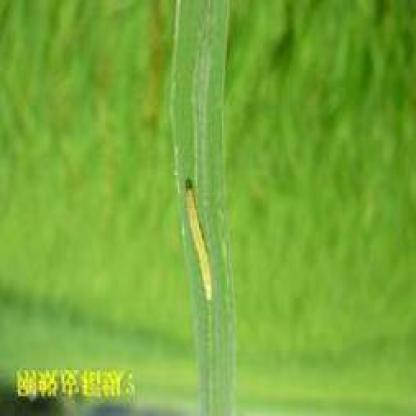leaf-folder: (166, 174, 226, 312)
